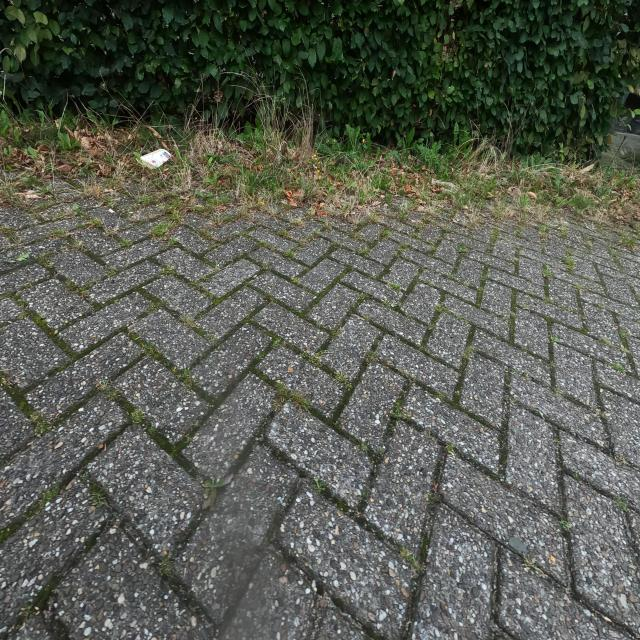Cup: (139, 148, 172, 170)
